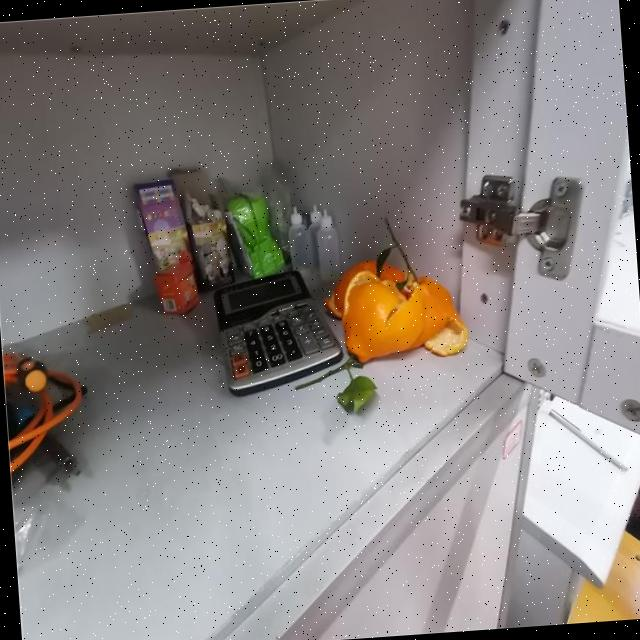orange-peel: (321, 249, 469, 367)
